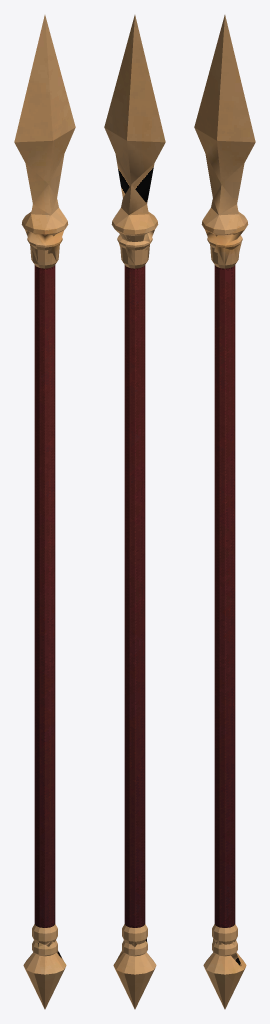
The model's file is item_spear_spartan.glb.
3 renders of one model, left to right at view 1: azimuth 30°, elevation 25°; view 2: azimuth 150°, elevation 25°; view 3: azimuth 330°, elevation 25°, orthographic.
Parts seen in each view (by area): view 1: default; view 2: default; view 3: default.
Part boxes in pixels (x1,y1,x2,y2): default: (14, 15, 75, 1009); default: (104, 15, 165, 1009); default: (194, 15, 255, 1009).
Bounding box in the file's own units: 0.1473 × 2.28 × 0.0965.
Materials: 1 (1 with a texture image).
